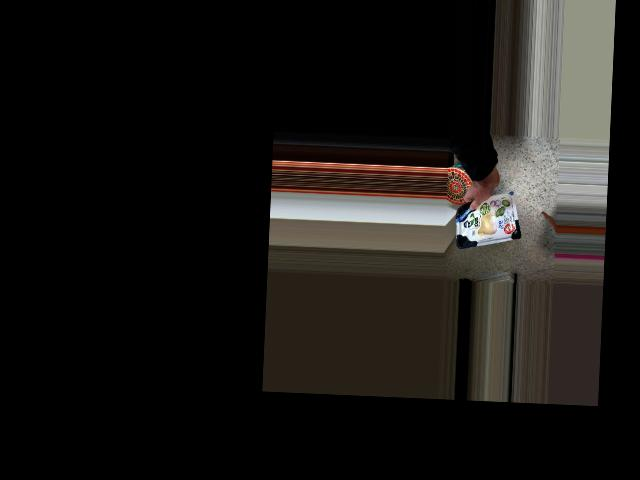cheese: (450, 194, 523, 246)
